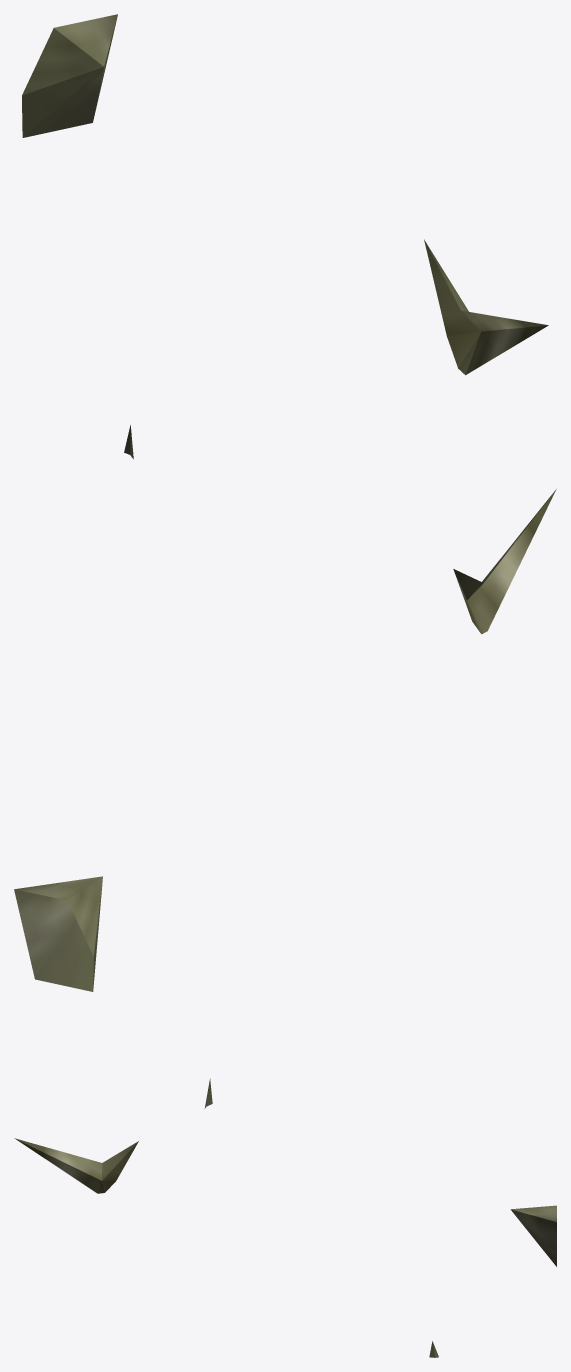
3 renders of one model, top to bottom at view 1: azimuth 30°, elevation 25°; view 2: azimuth 150°, elevation 25°; view 3: azimuth 270°, elevation 25°, orthographic. The views are drawn at different scales.
Bounding box in the file's own units: 0.0831 × 0.3108 × 0.6975.
Materials: 1 (1 with a texture image).
